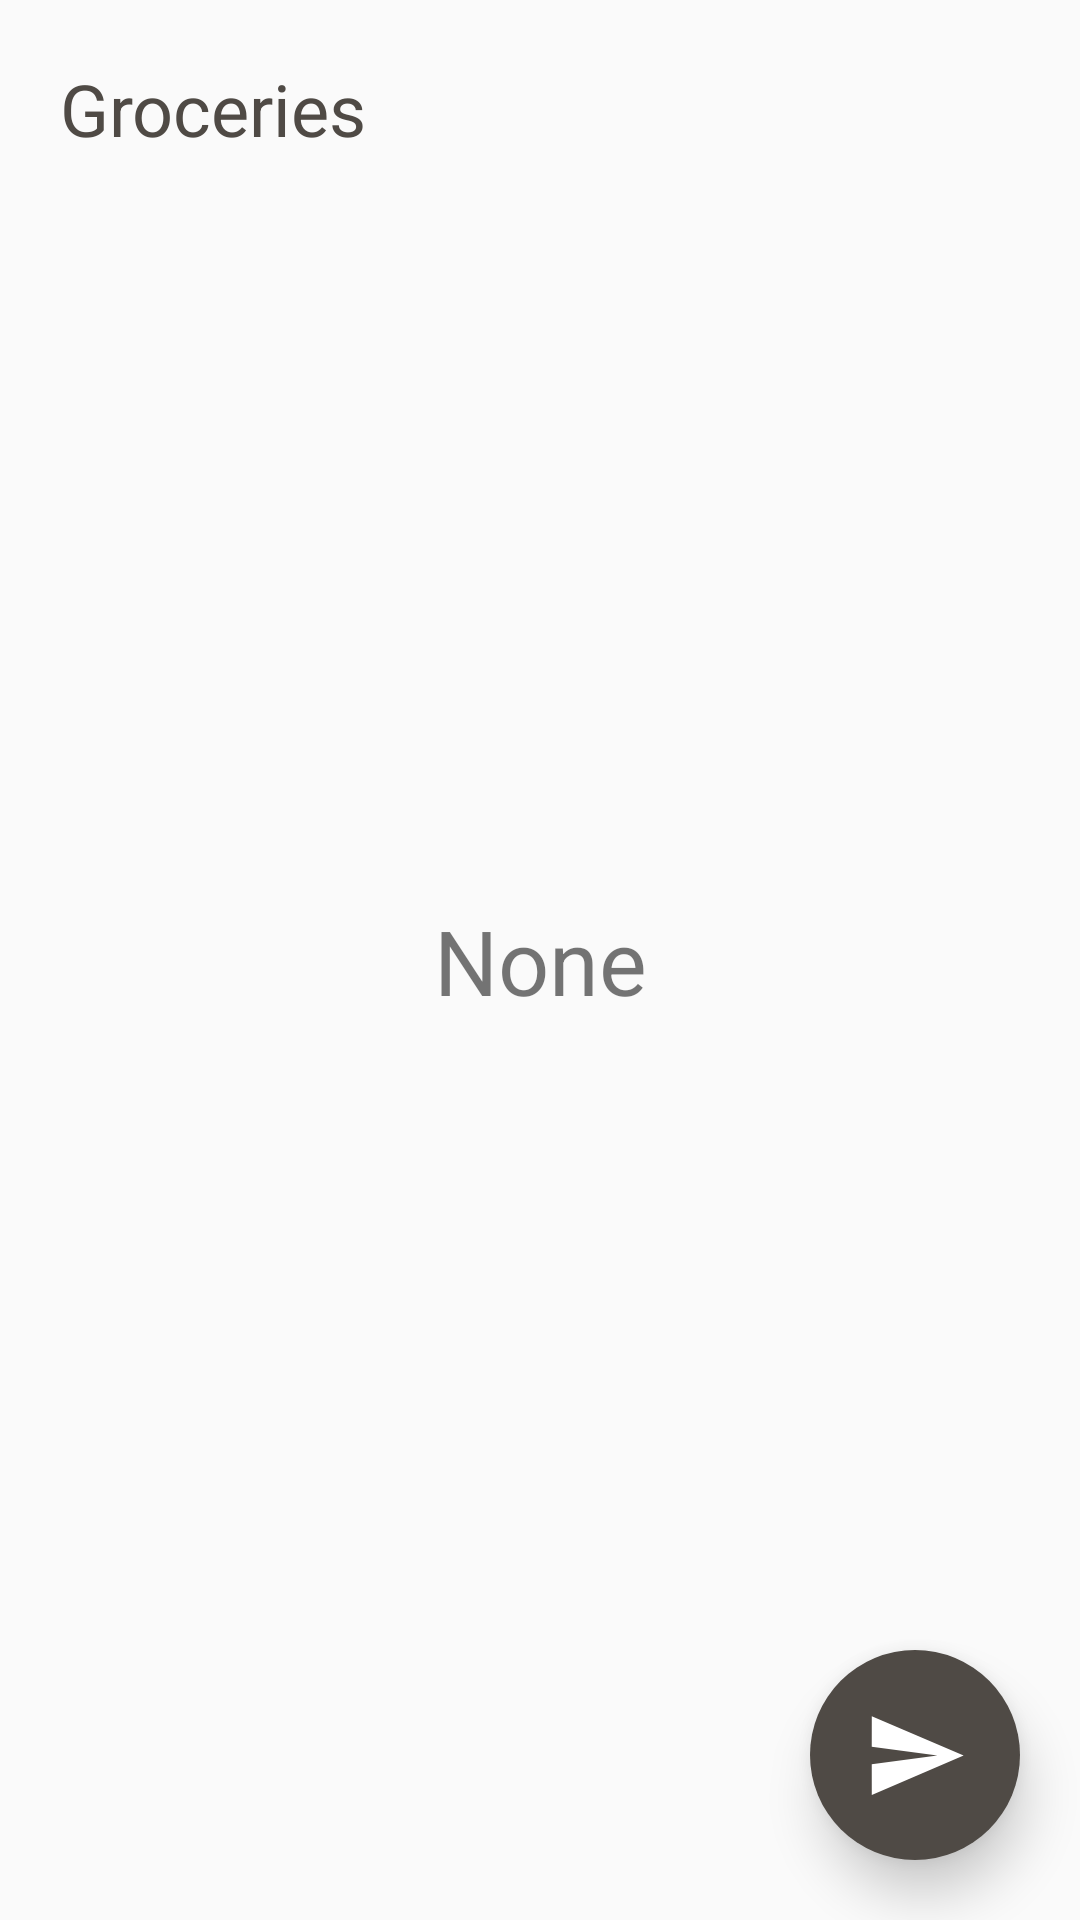

Where icons sit on this 1080x1920 app screen, as box=[x1, y1, x2, y2]:
send: box=[810, 1650, 1020, 1860]
